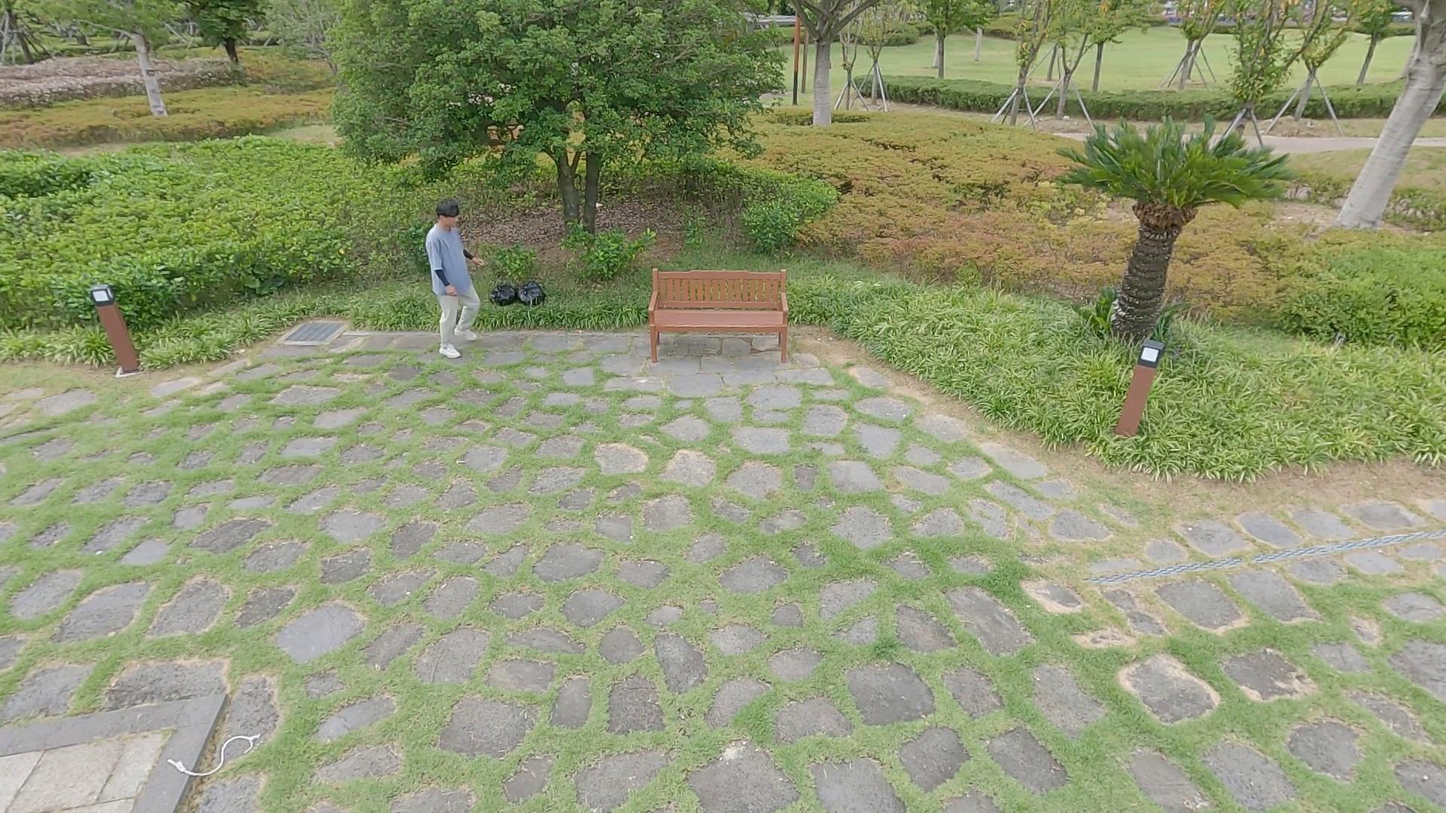person: (418, 192, 488, 363)
trash: (516, 280, 546, 313), (487, 278, 516, 305)
